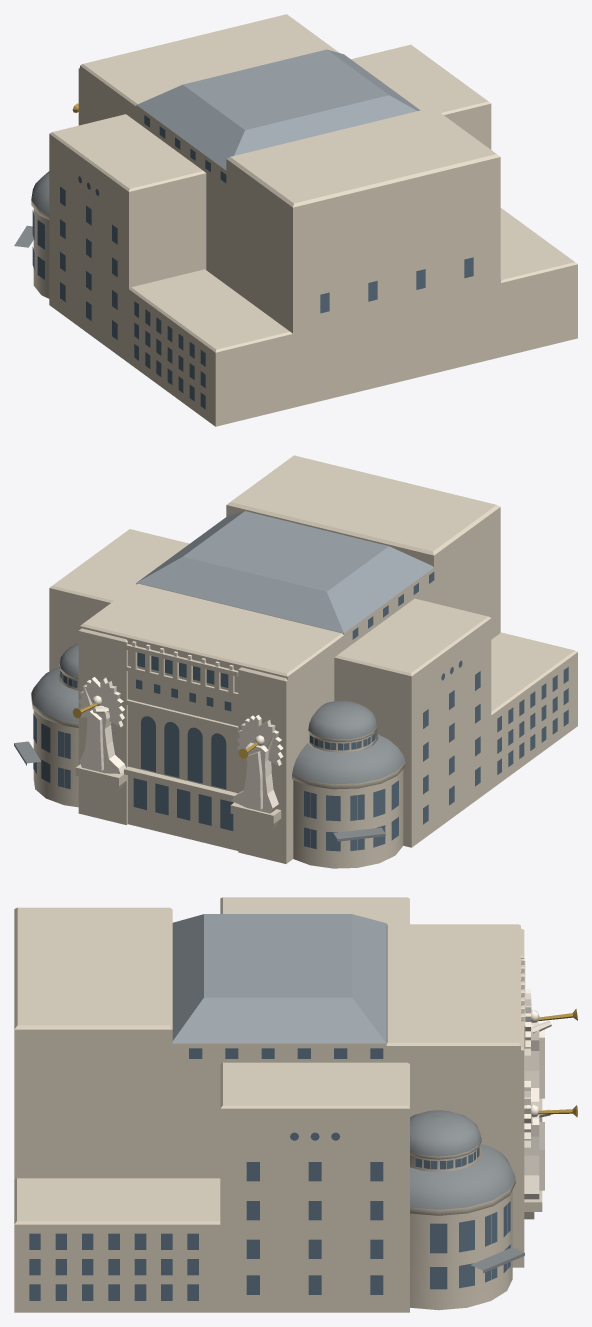
Rendered from dal-bass-performance-hall.glb.
3 views of the same model, one above another, from view 1: azimuth 30°, elevation 25°; view 2: azimuth 150°, elevation 25°; view 3: azimuth 270°, elevation 25° (orthographic). The views are drawn at different scales.
Visible parts, largest first — view 1: Bass Performance Hall; view 2: Bass Performance Hall; view 3: Bass Performance Hall.
Part boxes in pixels (x1,y1,x2,y2): Bass Performance Hall: (14, 14, 577, 426); Bass Performance Hall: (14, 455, 577, 868); Bass Performance Hall: (14, 897, 577, 1312).
Bounding box in the file's own units: 61.93 × 33.7 × 68.46.
